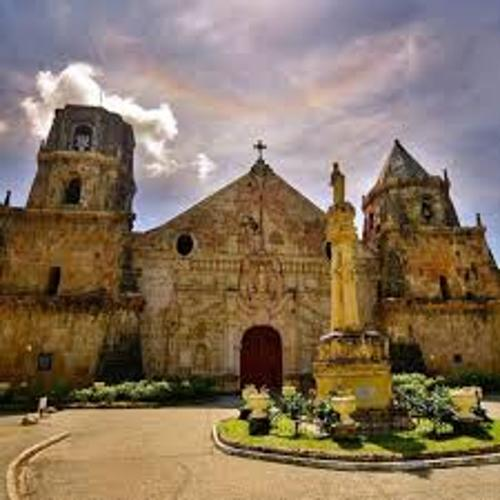Miagao Church: (4, 94, 500, 394)
